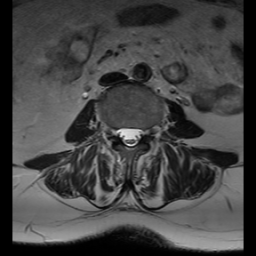CCS_normal: (127, 119, 134, 155)
LFS_stenosis: (142, 120, 150, 144)
LLS_normal: (134, 120, 142, 148)
RFS_normal: (109, 119, 118, 144)
RLS_normal: (118, 120, 127, 147)
